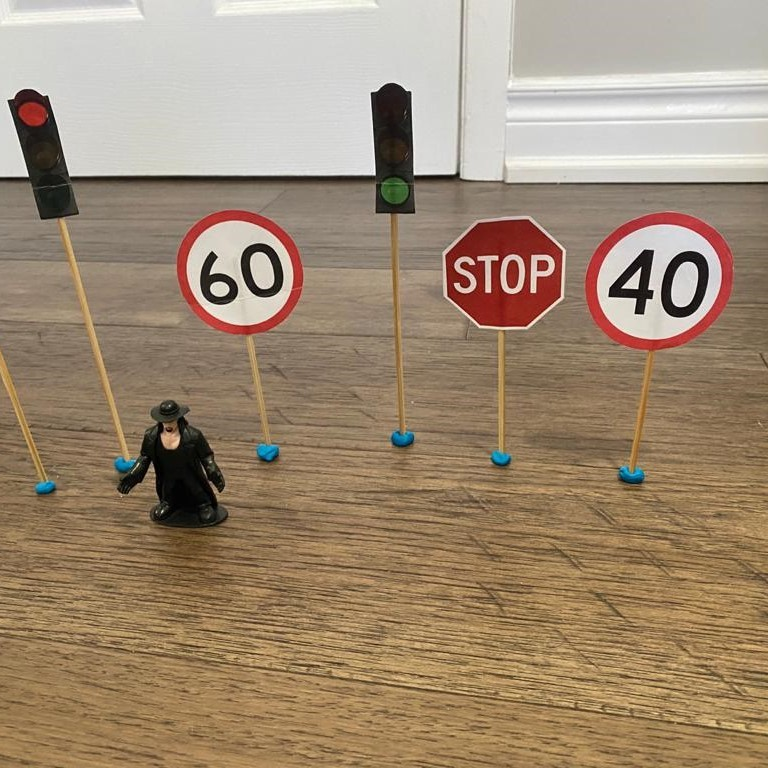Green Traffic Light: (366, 81, 419, 220)
Person: (115, 399, 231, 536)
Red Traffic Light: (5, 89, 82, 225)
Speed Limit 40: (579, 209, 739, 356)
Speed Limit 60: (169, 207, 311, 338)
Stop Sign: (439, 207, 568, 336)
